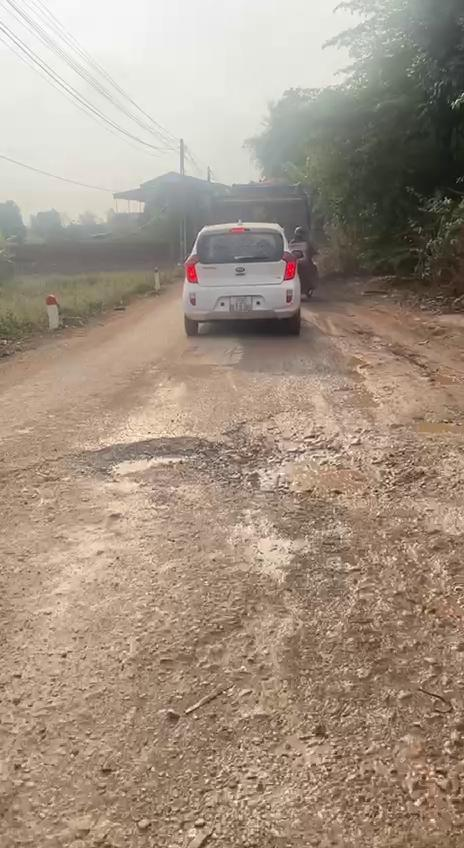pothole: (0, 432, 212, 506), (212, 430, 368, 506), (399, 416, 464, 440)
